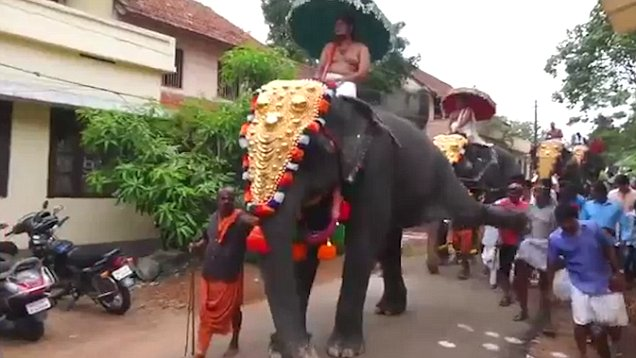Indian Elephant: (223, 68, 529, 358)
